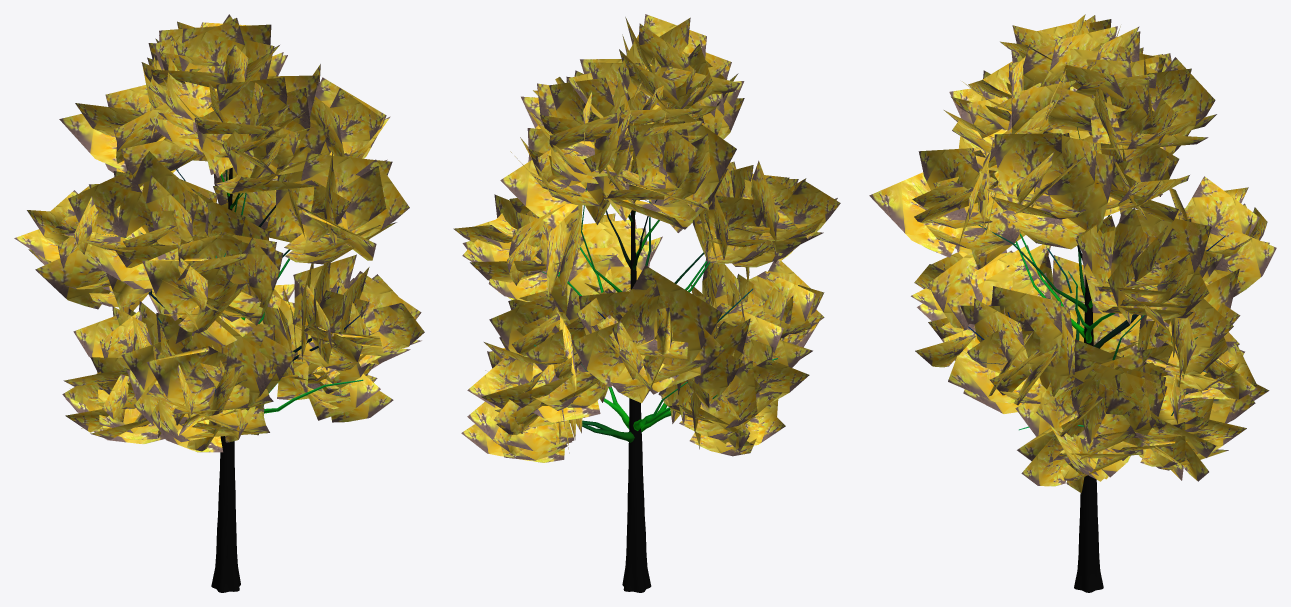
The model's file is BORK.fbx.
3 renders of one model, left to right at view 1: azimuth 30°, elevation 25°; view 2: azimuth 150°, elevation 25°; view 3: azimuth 270°, elevation 25°, orthographic. The views are drawn at different scales.
Visible parts, largest first — view 1: Tree_2; view 2: Tree_2; view 3: Tree_2.
Boxes of the visible parts, x1,y1,x2,y2 form: Tree_2: (14,14,424,592); Tree_2: (453,14,840,592); Tree_2: (869,14,1276,592).
Size of the model in its own units: 7.03 by 11.32 by 7.4.
